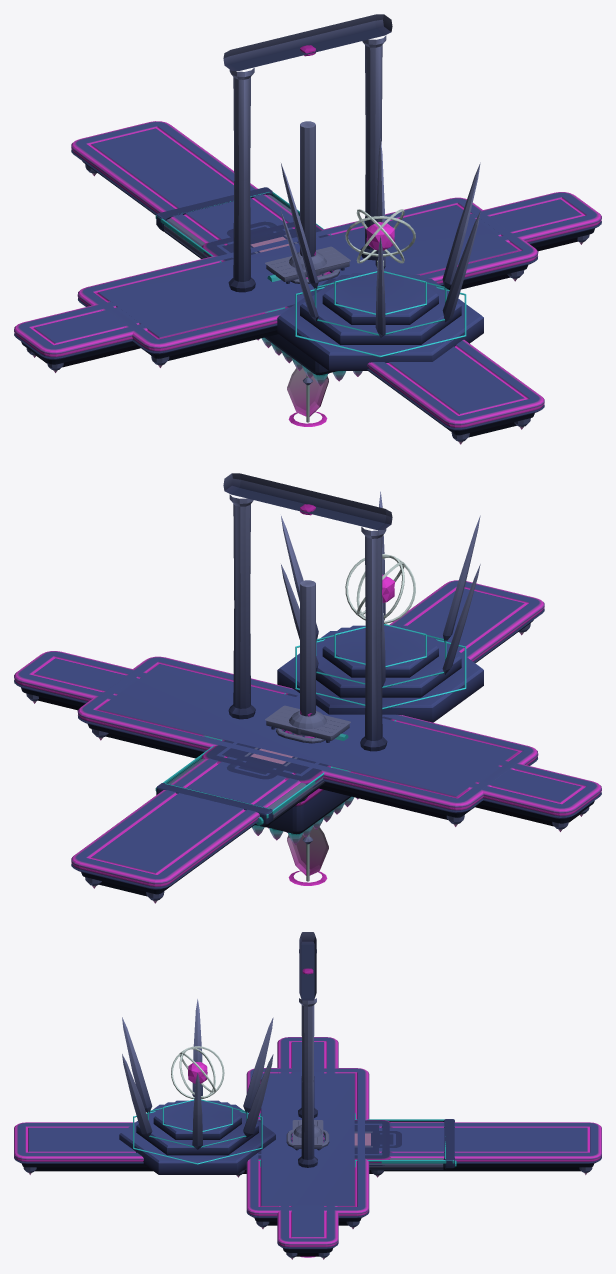
The model's file is core-6-CpYIukk1.glb.
The picture shows the model from 3 angles, top to bottom: view 1: azimuth 30°, elevation 25°; view 2: azimuth 150°, elevation 25°; view 3: azimuth 270°, elevation 25°; orthographic projection. The views are drawn at different scales.
Parts seen in each view (by area): view 1: block_28x2x10#0, block_7x2x48#0, summit_#0, pressFrame_7.5x6x2.5x7#0, block_40x2x5#0, press_4x6x9#0, belt_8x1.5x24x1#0, blade_3x10x1_wheel#0, burner_4.3x1.2x2#0, block_8x2x14#0; view 2: block_28x2x10#0, block_7x2x48#0, summit_#0, pressFrame_7.5x6x2.5x7#0, block_40x2x5#0, press_4x6x9#0, belt_8x1.5x24x1#0, block_8x2x14#0, burner_4.3x1.2x2#0, blade_3x10x1_wheel#0, barHub_6.1x1.2#0; view 3: block_7x2x48#0, block_28x2x10#0, summit_#0, block_40x2x5#0, pressFrame_7.5x6x2.5x7#0, belt_8x1.5x24x1#0, block_8x2x14#0, burner_4.3x1.2x2#0.
Part boxes in pixels (x1,y1,x2,y2): block_28x2x10#0: [77, 197, 538, 367]; block_7x2x48#0: [71, 121, 544, 444]; summit_#0: [277, 139, 483, 370]; pressFrame_7.5x6x2.5x7#0: [223, 14, 392, 292]; block_40x2x5#0: [14, 192, 601, 372]; press_4x6x9#0: [257, 121, 362, 385]; belt_8x1.5x24x1#0: [155, 187, 331, 308]; blade_3x10x1_wheel#0: [287, 368, 328, 416]; burner_4.3x1.2x2#0: [265, 246, 350, 283]; block_8x2x14#0: [202, 222, 330, 308]; block_28x2x10#0: [77, 656, 538, 826]; block_7x2x48#0: [71, 580, 544, 903]; summit_#0: [277, 491, 483, 722]; pressFrame_7.5x6x2.5x7#0: [223, 473, 392, 751]; block_40x2x5#0: [14, 651, 601, 831]; press_4x6x9#0: [251, 580, 358, 844]; belt_8x1.5x24x1#0: [155, 693, 402, 827]; block_8x2x14#0: [201, 689, 397, 804]; burner_4.3x1.2x2#0: [265, 705, 350, 742]; blade_3x10x1_wheel#0: [287, 827, 328, 875]; barHub_6.1x1.2#0: [286, 710, 348, 740]; block_7x2x48#0: [14, 1122, 601, 1174]; block_28x2x10#0: [246, 1068, 369, 1228]; summit_#0: [119, 999, 275, 1174]; block_40x2x5#0: [277, 1037, 338, 1259]; pressFrame_7.5x6x2.5x7#0: [298, 932, 317, 1167]; belt_8x1.5x24x1#0: [243, 1119, 456, 1170]; block_8x2x14#0: [236, 1120, 392, 1177]; burner_4.3x1.2x2#0: [292, 1120, 323, 1150].
Size of the model in its own units: 40 by 26.4 by 48.
